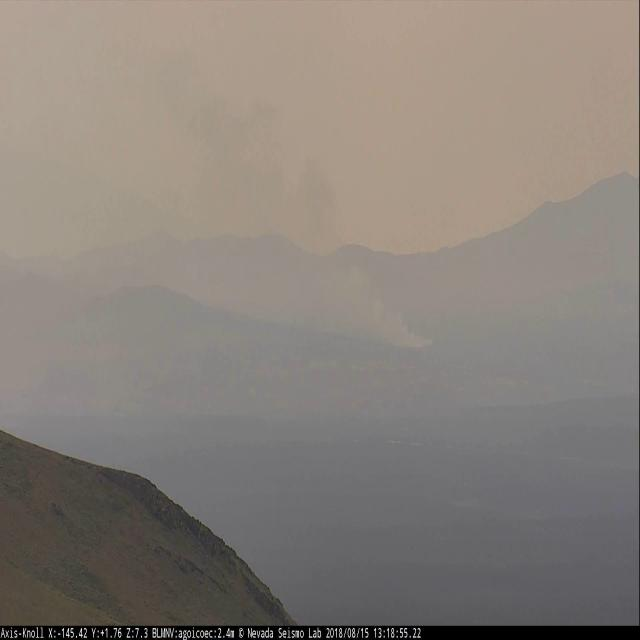smoke: (180, 66, 445, 352)
